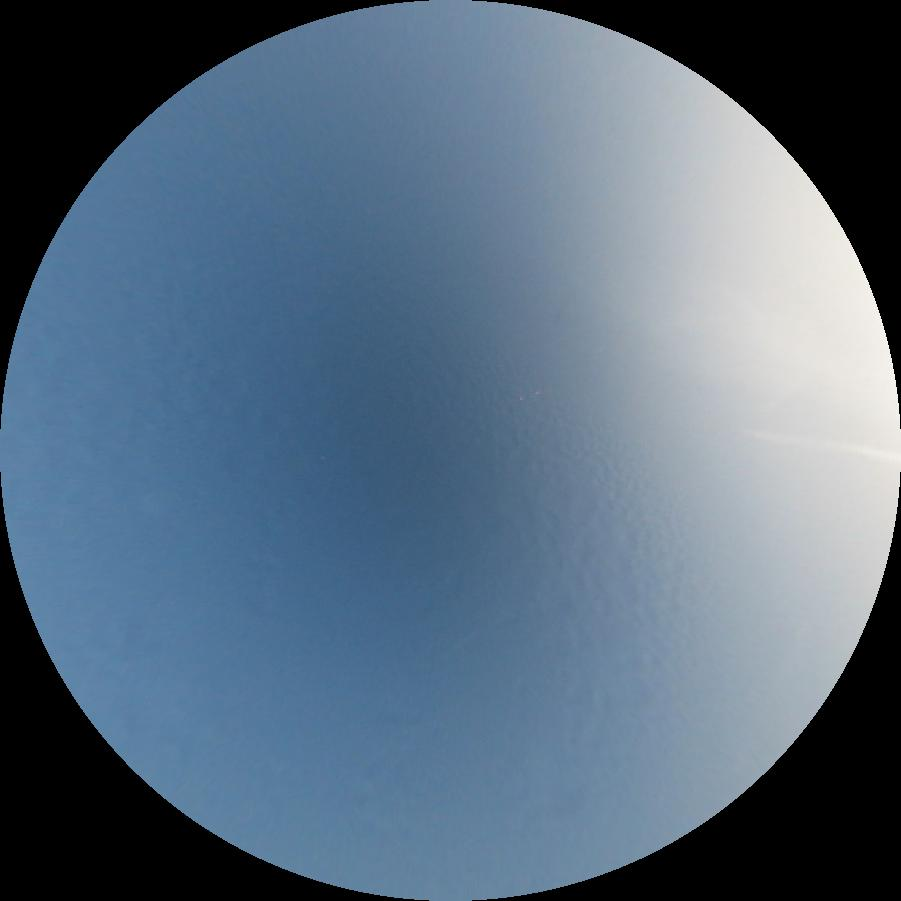contrail veryold: (749, 430, 900, 466)
